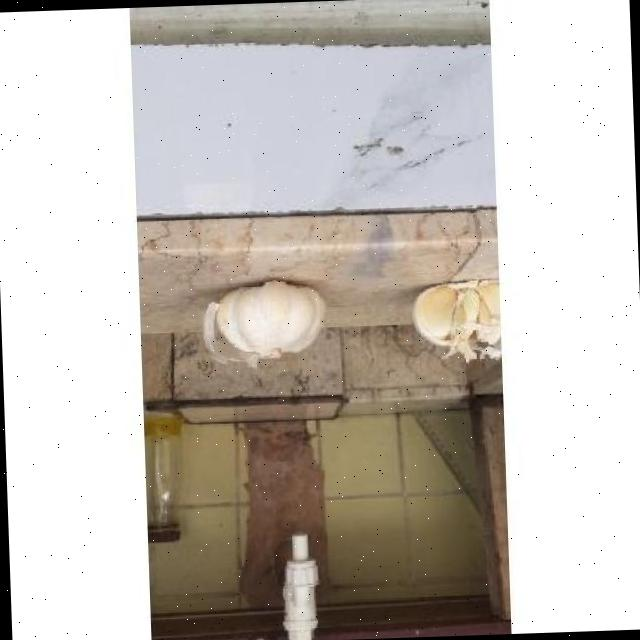garlic: (202, 280, 322, 366), (411, 279, 498, 361)
